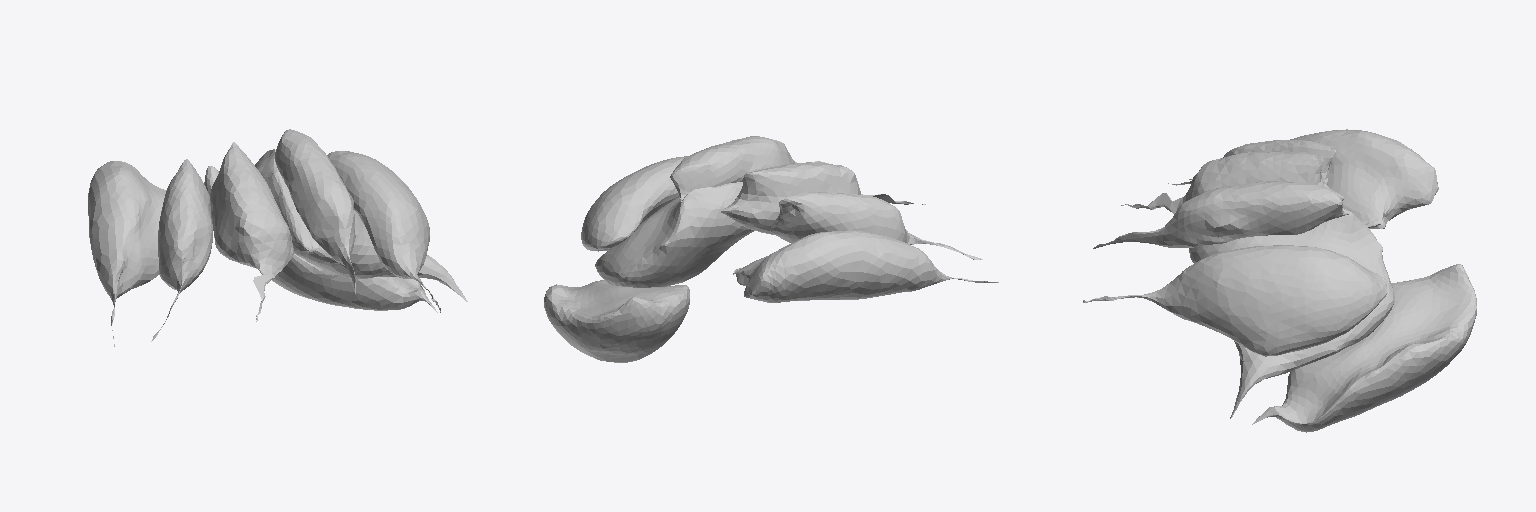
Rendered from rand_5_muscle.obj.
3 views of the same model, side by side, from view 1: azimuth 30°, elevation 25°; view 2: azimuth 150°, elevation 25°; view 3: azimuth 270°, elevation 25° (orthographic).
Size of the model in its own units: 95.06 by 48.03 by 87.08.